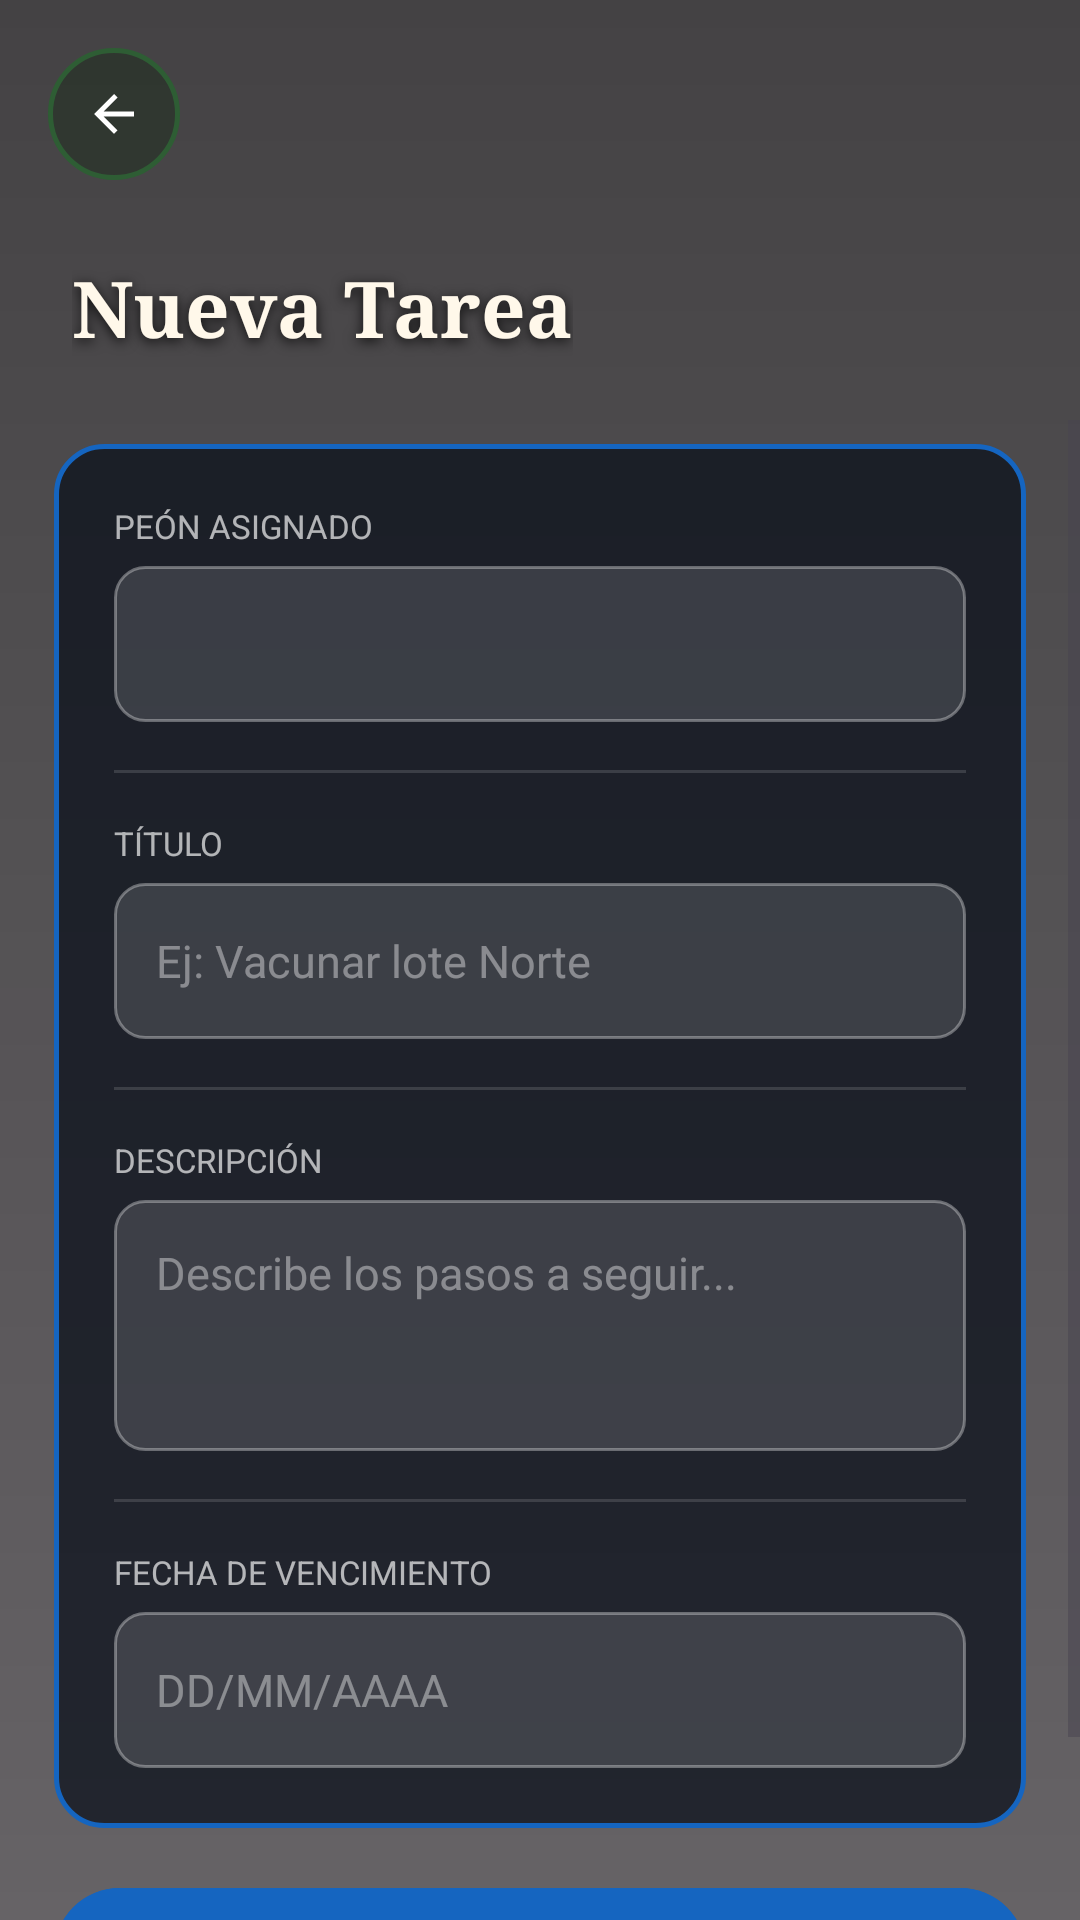

Named icons in this screenshot (1080px×1920px) and their bounding boxes, (x1, y1, x2, y2):
arrow back: (48, 48, 180, 180)
